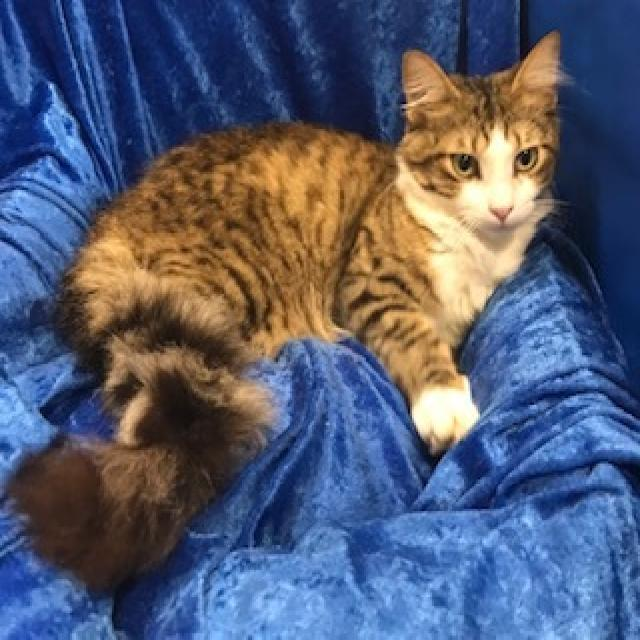maine_coon_cat: (386, 31, 580, 260)
